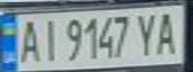1: (81, 14, 100, 61)
4: (97, 12, 118, 60)
7: (112, 11, 133, 58)
9: (63, 15, 84, 62)
A: (151, 8, 184, 56), (15, 16, 42, 64)
I: (36, 15, 60, 63)
Y: (133, 10, 160, 57)
